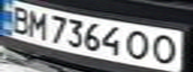3: (63, 17, 87, 48)
4: (100, 24, 127, 56)
6: (81, 20, 103, 53)
7: (45, 12, 69, 45)
B: (3, 2, 33, 35)
M: (24, 8, 51, 39)
O: (148, 32, 184, 65), (124, 28, 154, 61)
